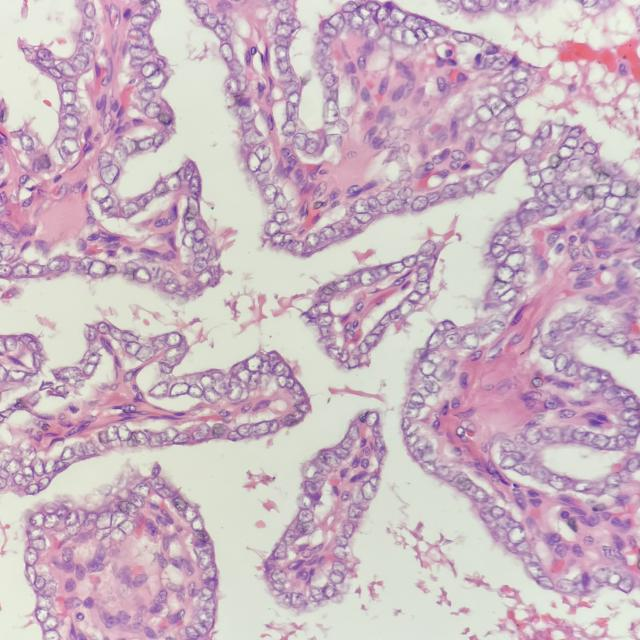TC: (236, 350, 271, 378), (94, 159, 126, 188), (241, 147, 268, 180), (82, 255, 112, 284), (415, 354, 446, 381), (130, 260, 157, 291), (356, 406, 385, 433), (483, 240, 514, 264), (401, 389, 429, 415), (43, 251, 69, 278), (415, 237, 444, 261), (6, 258, 31, 285), (354, 265, 382, 289), (189, 257, 219, 279), (347, 193, 375, 216), (133, 339, 156, 367), (289, 126, 311, 154), (164, 426, 192, 448), (257, 214, 282, 238), (440, 179, 468, 200), (176, 214, 204, 235), (540, 163, 563, 188), (164, 168, 183, 198), (425, 328, 445, 356), (497, 126, 525, 146), (408, 192, 430, 215), (486, 279, 514, 297), (188, 175, 208, 197), (555, 349, 568, 381), (169, 382, 190, 401)
